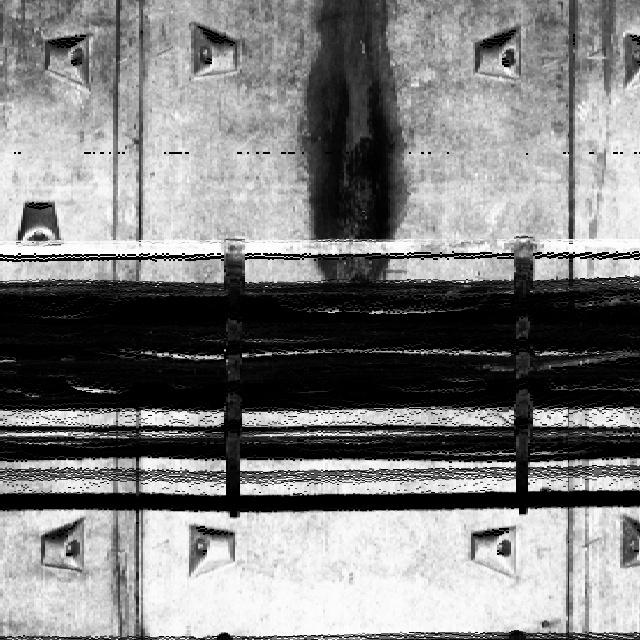leakage: (289, 0, 417, 287)
